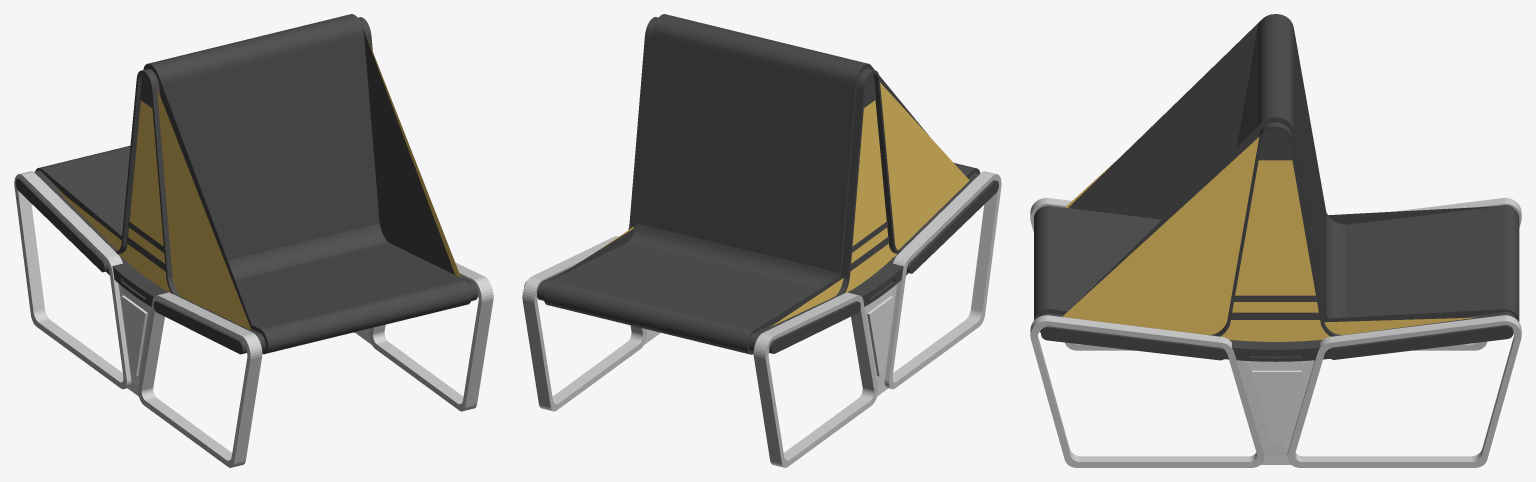
Rendered from Bench_Seat.fbx.
3 views of the same model, side by side, from view 1: azimuth 30°, elevation 25°; view 2: azimuth 150°, elevation 25°; view 3: azimuth 270°, elevation 25° (orthographic). The views are drawn at different scales.
Visible parts, largest first — view 1: SeatOverlay, Circle.012, Circle.021, Circle.028, Circle.013, Circle, Circle.025, Plane.004, Circle.008, Circle.009, Circle.002; view 2: SeatOverlay, Circle.012, Circle.028, Circle.021, Circle, Circle.030, Circle.025, Plane.004, Circle.008, Circle.009; view 3: SeatOverlay, Circle.002, Circle.013, Circle.030, Circle.015, Plane.006, Circle, Circle.004, Circle.006, Circle.021, Circle.028.
Boxes of the visible parts, left/top/right/bottom form: SeatOverlay: left=35, top=14, right=471, bottom=354; Circle.012: left=53, top=88, right=251, bottom=330; Circle.021: left=14, top=171, right=131, bottom=389; Circle.028: left=138, top=292, right=262, bottom=467; Circle.013: left=369, top=262, right=493, bottom=411; Circle: left=34, top=17, right=477, bottom=351; Circle.025: left=15, top=178, right=246, bottom=354; Plane.004: left=118, top=283, right=151, bottom=396; Circle.008: left=106, top=257, right=167, bottom=306; Circle.009: left=126, top=74, right=165, bottom=271; Circle.002: left=367, top=37, right=460, bottom=277; SeatOverlay: left=544, top=14, right=980, bottom=354; Circle.012: left=771, top=82, right=969, bottom=326; Circle.028: left=884, top=171, right=1001, bottom=389; Circle.021: left=753, top=292, right=877, bottom=467; Circle: left=537, top=17, right=979, bottom=351; Circle.030: left=522, top=236, right=646, bottom=411; Circle.025: left=769, top=180, right=998, bottom=353; Plane.004: left=864, top=284, right=897, bottom=396; Circle.008: left=847, top=257, right=908, bottom=306; Circle.009: left=850, top=73, right=889, bottom=270; SeatOverlay: left=1034, top=14, right=1519, bottom=322; Circle.002: left=1062, top=137, right=1475, bottom=341; Circle.013: left=1030, top=315, right=1264, bottom=467; Circle.030: left=1287, top=315, right=1521, bottom=467; Circle.015: left=1041, top=325, right=1513, bottom=360; Plane.006: left=1237, top=360, right=1314, bottom=464; Circle: left=1040, top=122, right=1515, bottom=336; Circle.004: left=1231, top=129, right=1319, bottom=319; Circle.006: left=1225, top=339, right=1330, bottom=361; Circle.021: left=1394, top=197, right=1521, bottom=350; Circle.028: left=1030, top=197, right=1133, bottom=350.
Size of the model in its own units: 206 by 259 by 339.
